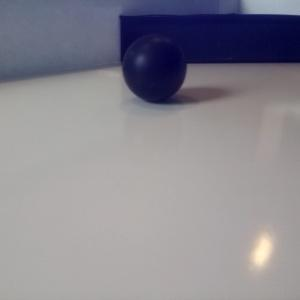zone: (119, 13, 300, 63)
